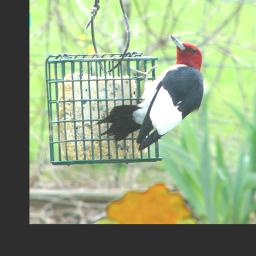Woodpecker: (96, 35, 204, 151)
